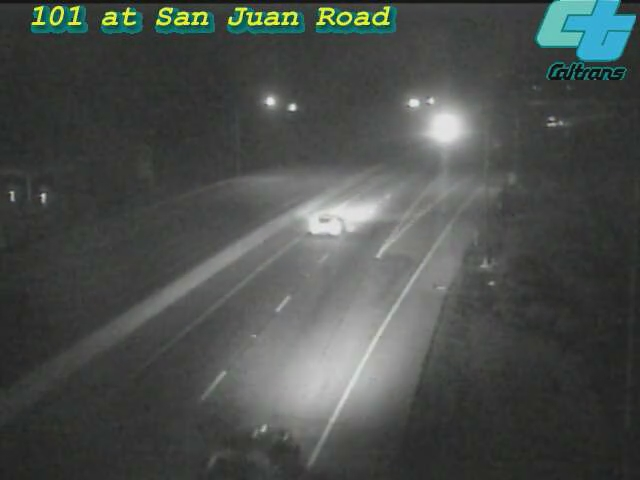vehicle: (206, 400, 316, 480), (285, 186, 365, 266), (418, 104, 468, 154), (532, 96, 582, 146)
